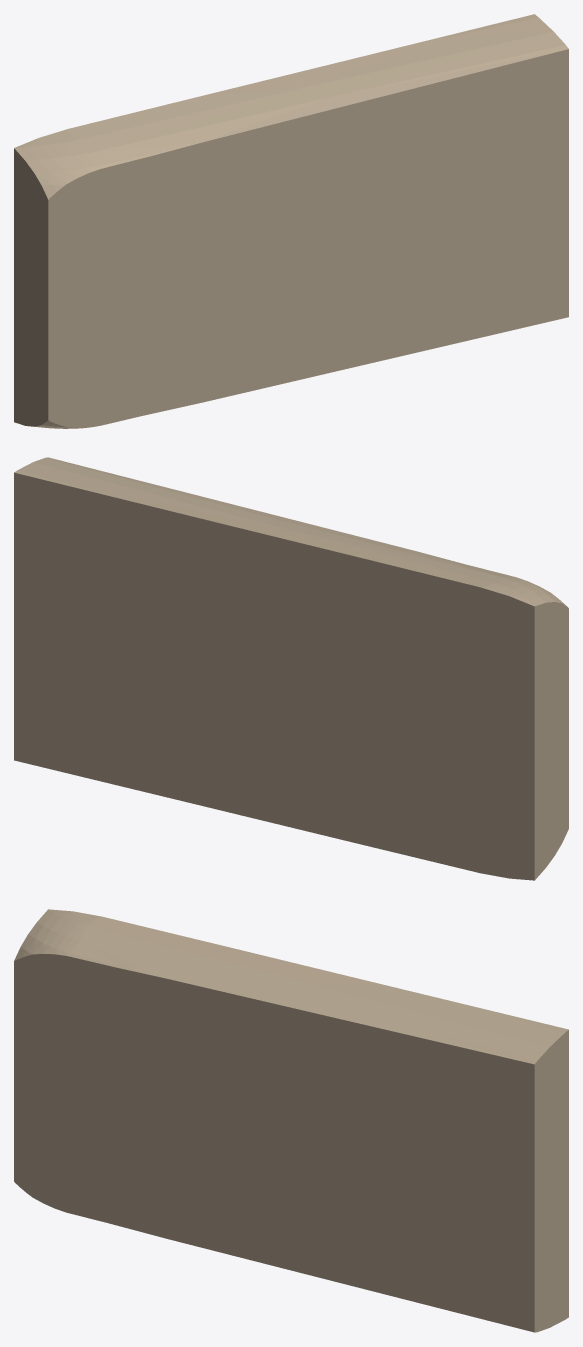
Rendered from T-CAN-PLUG3.glb.
The picture shows the model from 3 angles, top to bottom: view 1: azimuth 30°, elevation 25°; view 2: azimuth 150°, elevation 25°; view 3: azimuth 330°, elevation 25°; orthographic projection.
Visible parts, largest first — view 1: geometry_0; view 2: geometry_0; view 3: geometry_0.
Boxes of the visible parts, x1,y1,x2,y2 form: geometry_0: (14,14,568,428); geometry_0: (14,457,568,880); geometry_0: (14,909,568,1332).
Bounding box in the file's own units: 1705 × 900 × 194.
